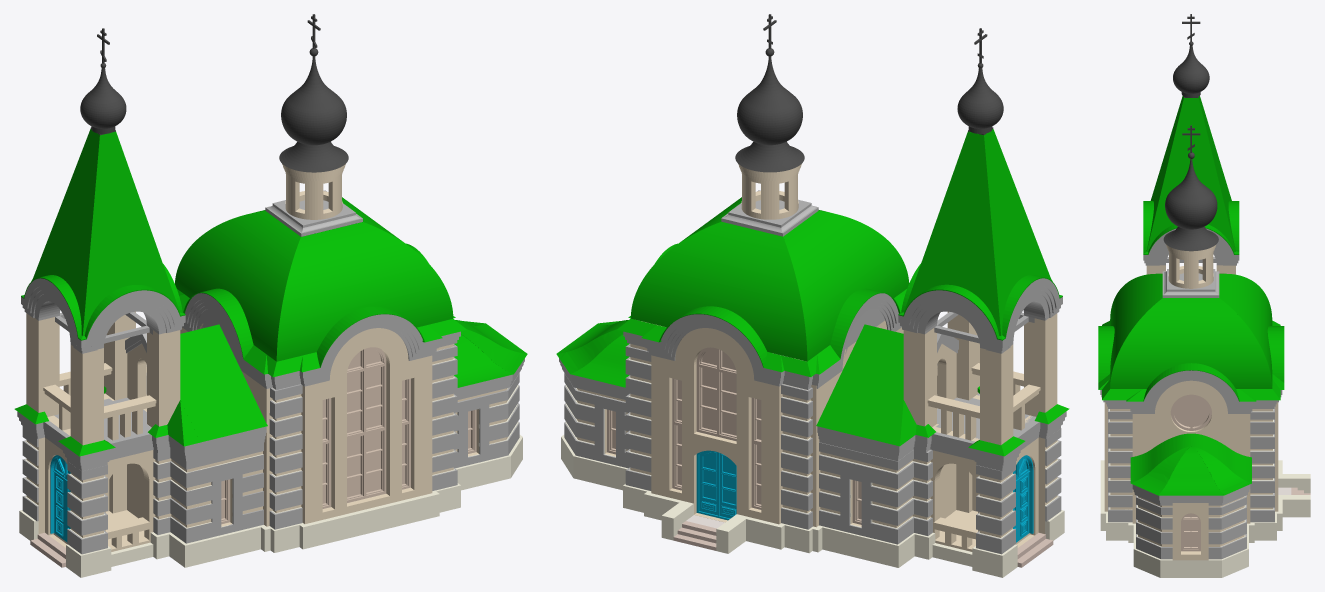
Rendered from church.glb.
The picture shows the model from 3 angles, left to right: view 1: azimuth 30°, elevation 25°; view 2: azimuth 150°, elevation 25°; view 3: azimuth 270°, elevation 25°; orthographic projection. The views are drawn at different scales.
Visible parts, largest first — view 1: IfcBuildingElementProxy/Элемент - крыша (1): 19 59, IfcBuildingElementProxy/Элемент - стены (2): 19 12, IfcBuildingElementProxy/Элемент - сухарь: 19 098,, IfcBuildingElementProxy/Элемент - фить фить: 19, IfcBuildingElementProxy/Элемент - окна: 13 556,26, IfcBuildingElementProxy/Элемент - купала (1): 11, IfcWall/Стена: 200,00 мм.025, IfcWall/Стена: 200,00 мм.030, IfcBuildingElementProxy/Элемент - двери: 11 610,14, IfcWall/Стена: 200,00 мм.020, IfcBuildingElementProxy/Элемент - КРУГЛАЯ СТЕ, IfcWall/Стена: 200,00 мм.041 (+2 smaller); view 2: IfcBuildingElementProxy/Элемент - крыша (1): 19 59, IfcBuildingElementProxy/Элемент - стены (2): 19 12, IfcBuildingElementProxy/Элемент - сухарь: 19 098,, IfcBuildingElementProxy/Элемент - фить фить: 19, IfcBuildingElementProxy/Элемент - купала (1): 11, IfcBuildingElementProxy/Элемент - окна: 13 556,26, IfcBuildingElementProxy/Элемент - двери: 11 610,14, IfcWall/Стена: 200,00 мм.007, IfcWall/Стена: 200,00 мм.014, IfcWall/Стена: 200,00 мм.015, IfcWall/Стена: 510,00 мм, IfcStairFlight/Лестница: 3 шт x 299,99 мм x 146,67 (+4 smaller); view 3: IfcBuildingElementProxy/Элемент - крыша (1): 19 59, IfcBuildingElementProxy/Элемент - стены (2): 19 12, IfcBuildingElementProxy/Элемент - сухарь: 19 098,, IfcBuildingElementProxy/Элемент - фить фить: 19, IfcBuildingElementProxy/Элемент - купала (1): 11, IfcBuildingElementProxy/Элемент - окна: 13 556,26, IfcWall/Стена: 200,00 мм.019, IfcWall/Стена: 510,00 мм.001, IfcWall/Стена: 200,00 мм.016, IfcWall/Стена: 200,00 мм.021, IfcWall/Стена: 510,00 мм, IfcWall/Стена: 200,00 мм.018 (+1 smaller).
Part boxes in pixels (x1,y1,x2,y2): IfcBuildingElementProxy/Элемент - крыша (1): 19 59: (14,129,527,456); IfcBuildingElementProxy/Элемент - стены (2): 19 12: (26,164,507,551); IfcBuildingElementProxy/Элемент - сухарь: 19 098,: (22,344,519,554); IfcBuildingElementProxy/Элемент - фить фить: 19: (17,190,524,471); IfcBuildingElementProxy/Элемент - окна: 13 556,26: (221,347,476,524); IfcBuildingElementProxy/Элемент - купала (1): 11: (80,14,348,172); IfcWall/Стена: 200,00 мм.025: (303,493,439,549); IfcWall/Стена: 200,00 мм.030: (185,525,261,567); IfcBuildingElementProxy/Элемент - двери: 11 610,14: (50,455,70,542); IfcWall/Стена: 200,00 мм.020: (455,455,510,490); IfcBuildingElementProxy/Элемент - КРУГЛАЯ СТЕ: (196,309,241,369); IfcWall/Стена: 200,00 мм.041: (81,548,111,577); IfcBuildingElementProxy/Элемент - крыша (1): 19 59: (556,129,1069,456); IfcBuildingElementProxy/Элемент - стены (2): 19 12: (576,164,1057,551); IfcBuildingElementProxy/Элемент - сухарь: 19 098,: (564,344,1061,554); IfcBuildingElementProxy/Элемент - фить фить: 19: (559,190,1066,471); IfcBuildingElementProxy/Элемент - купала (1): 11: (735,14,1003,172); IfcBuildingElementProxy/Элемент - окна: 13 556,26: (607,347,861,524); IfcBuildingElementProxy/Элемент - двери: 11 610,14: (696,450,1033,542); IfcWall/Стена: 200,00 мм.007: (822,526,898,567); IfcWall/Стена: 200,00 мм.014: (573,455,627,490); IfcWall/Стена: 200,00 мм.015: (738,514,781,549); IfcWall/Стена: 510,00 мм: (716,514,745,553); IfcStairFlight/Лестница: 3 шт x 299,99 мм x 146,67: (673,521,716,550); IfcBuildingElementProxy/Элемент - крыша (1): 19 59: (1098,96,1284,495); IfcBuildingElementProxy/Элемент - стены (2): 19 12: (1104,244,1278,560); IfcBuildingElementProxy/Элемент - сухарь: 19 098,: (1108,407,1274,559); IfcBuildingElementProxy/Элемент - фить фить: 19: (1100,228,1282,505); IfcBuildingElementProxy/Элемент - купала (1): 11: (1163,14,1218,251); IfcBuildingElementProxy/Элемент - окна: 13 556,26: (1171,394,1211,551); IfcWall/Стена: 200,00 мм.019: (1160,559,1221,577); IfcWall/Стена: 510,00 мм.001: (1278,495,1310,517); IfcWall/Стена: 200,00 мм.016: (1133,549,1160,577); IfcWall/Стена: 200,00 мм.021: (1221,548,1248,577); IfcWall/Стена: 510,00 мм: (1278,474,1310,493); IfcWall/Стена: 200,00 мм.018: (1253,522,1276,540).
Size of the model in its own units: 19.61 by 20.91 by 9.84.
